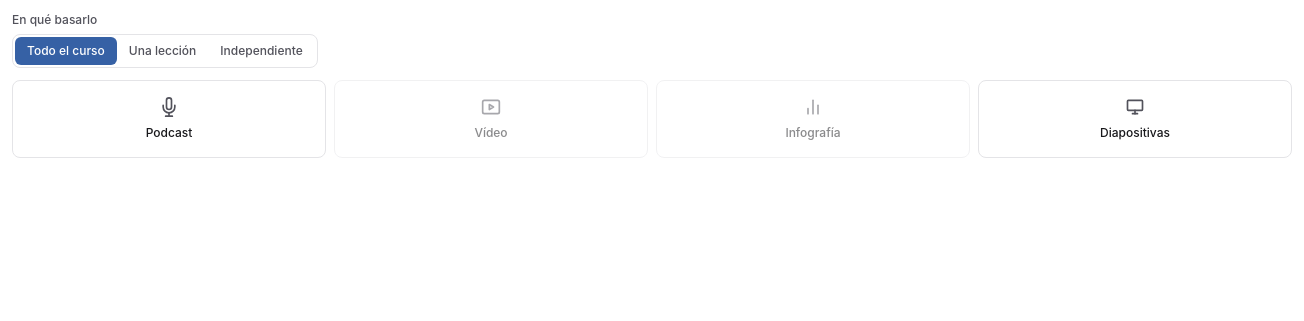
Test: <CourseMediaGenerator> with images blocked › blocks every kind that needs images, and leaves the others alone
This screenshot has width=1304, height=321.
Click the button "Podcast" at (169, 119), box [12,80,326,158]
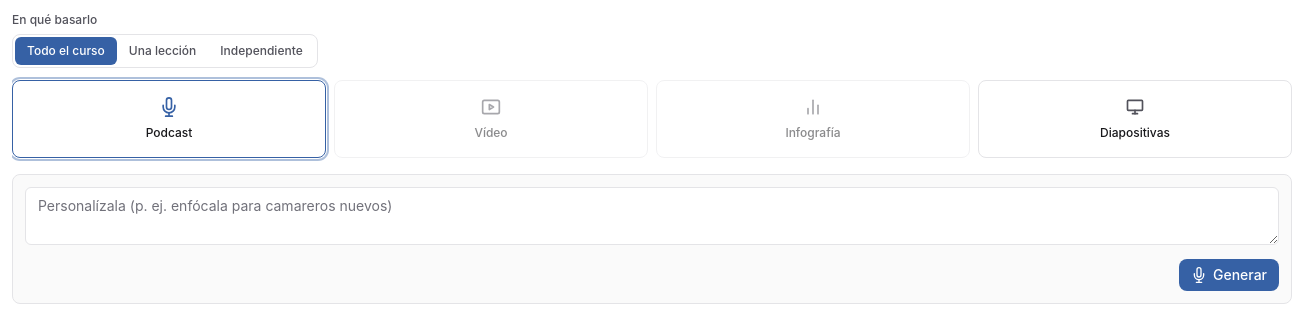
Expected: the text box named "Enfoque o información extra para la generación" is shown, [25,187,1279,245]
